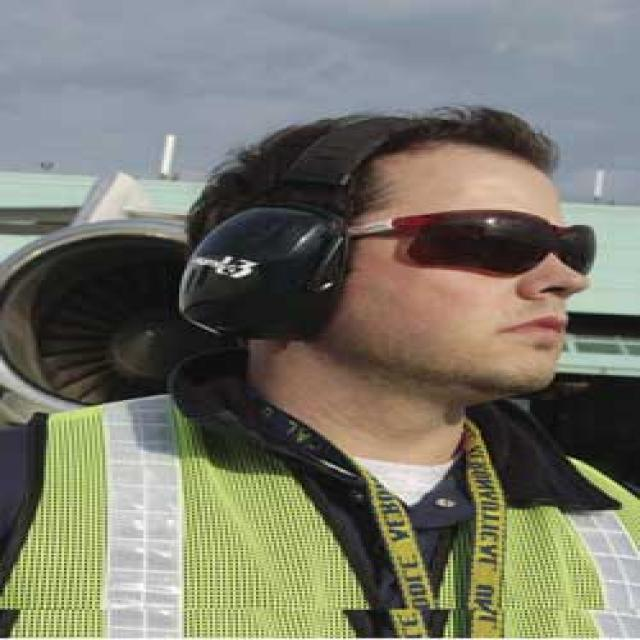Ear-Protection: (164, 204, 353, 344)
